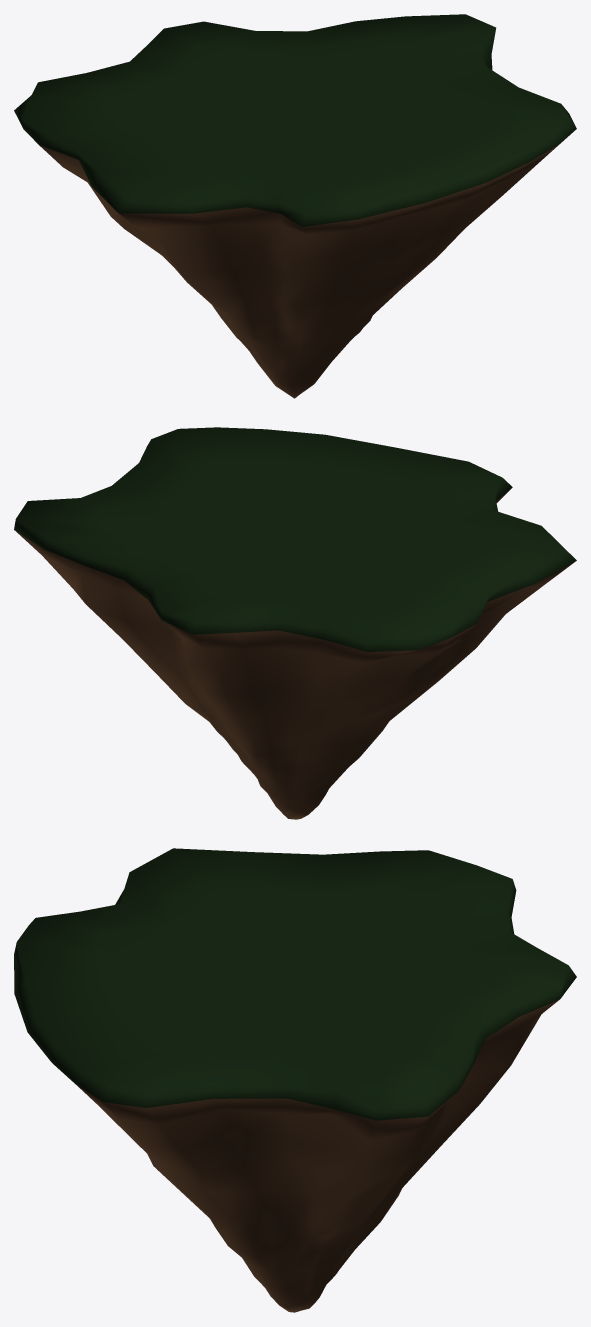
File: IlhaPequena.fbx
3 views of the same model, one above another, from view 1: azimuth 30°, elevation 25°; view 2: azimuth 150°, elevation 25°; view 3: azimuth 270°, elevation 25° (orthographic). The views are drawn at different scales.
Visible parts, largest first — view 1: IlhaPequena; view 2: IlhaPequena; view 3: IlhaPequena.
Part boxes in pixels (<box>): IlhaPequena: <box>14,14,576,398</box>; IlhaPequena: <box>14,427,576,819</box>; IlhaPequena: <box>14,848,576,1312</box>.
Size of the model in its own units: 4750 by 2809 by 4216.
